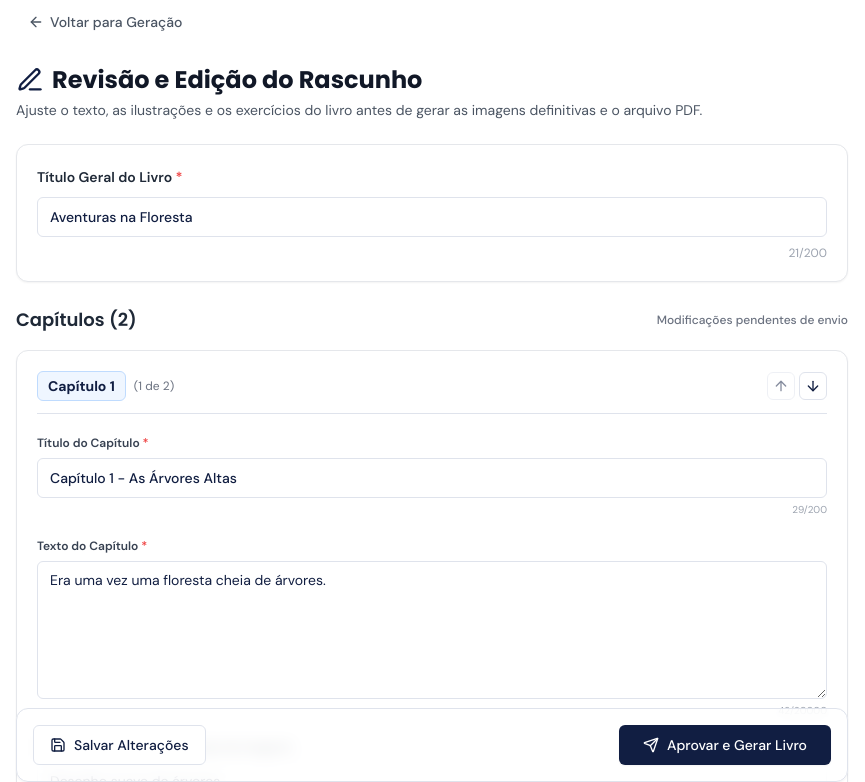
Test: UI Tests — Rascunho, Edição, Salvar e Aprovar (Task 14.3) › permite editar título, salvar com sucesso e exibir mensagem
The image size is (865, 782).
Replace the text in the field showing "Aventuras na Floresta" below "Título Geral do Livro" with "Aventuras no Espaço" at (432, 217), box [37,197,827,237]
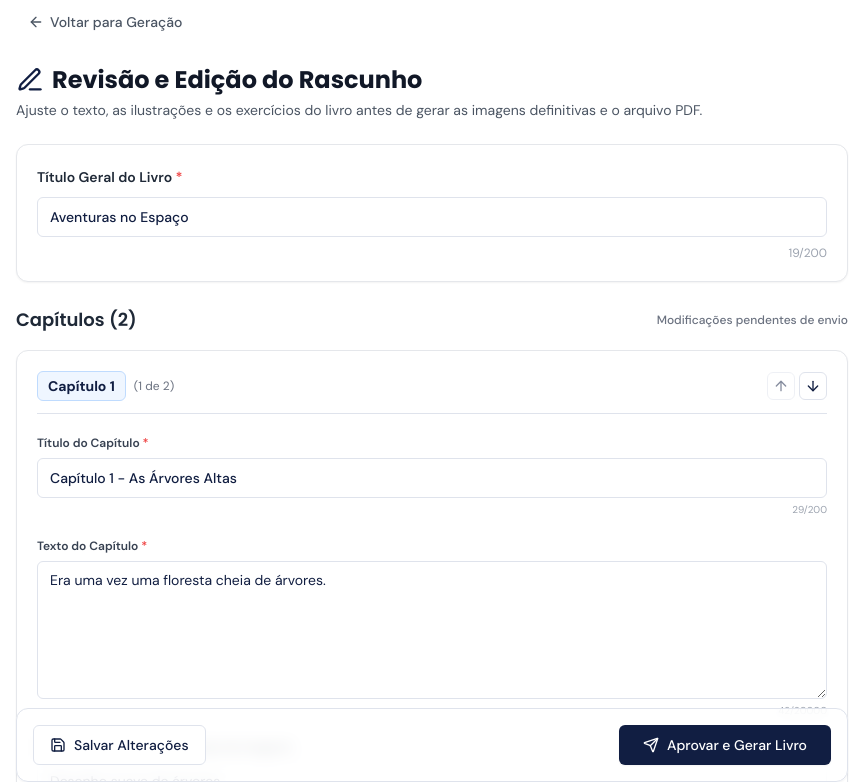
Click the button "Salvar Alterações".
click(119, 745)  # box [33,725,206,765]
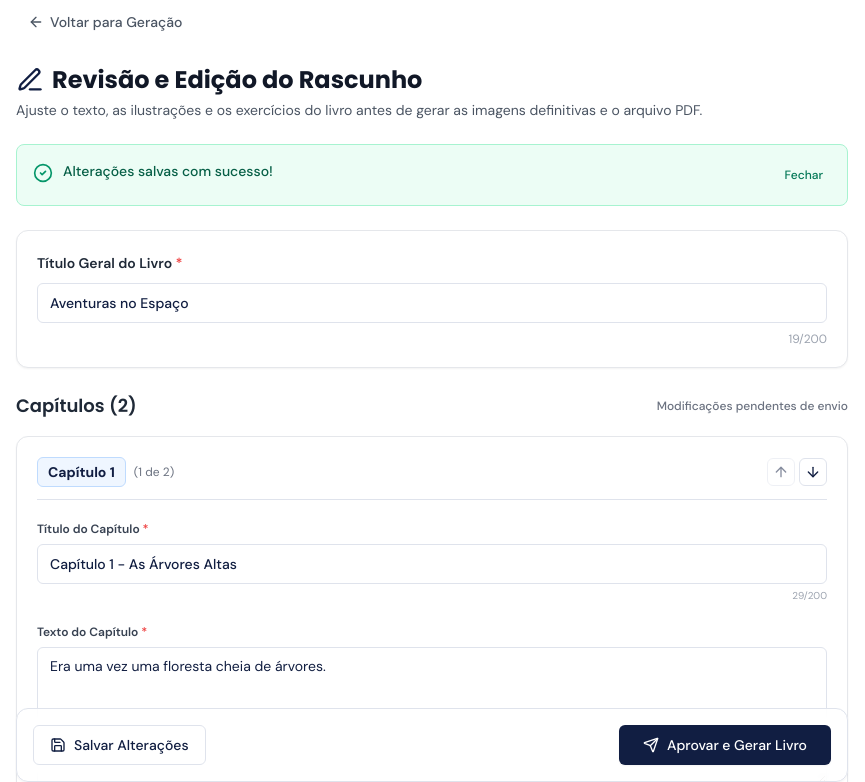
Check: the text "Alterações salvas com sucesso!" is shown, box [63,161,273,181]
